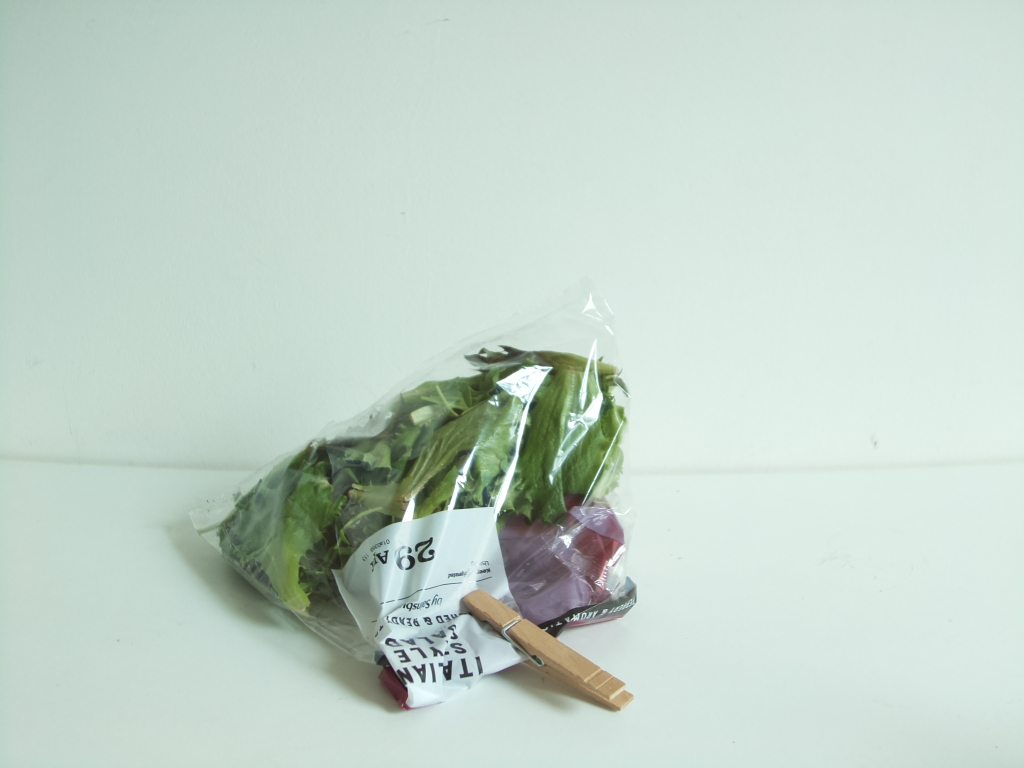salad: (208, 338, 642, 710)
